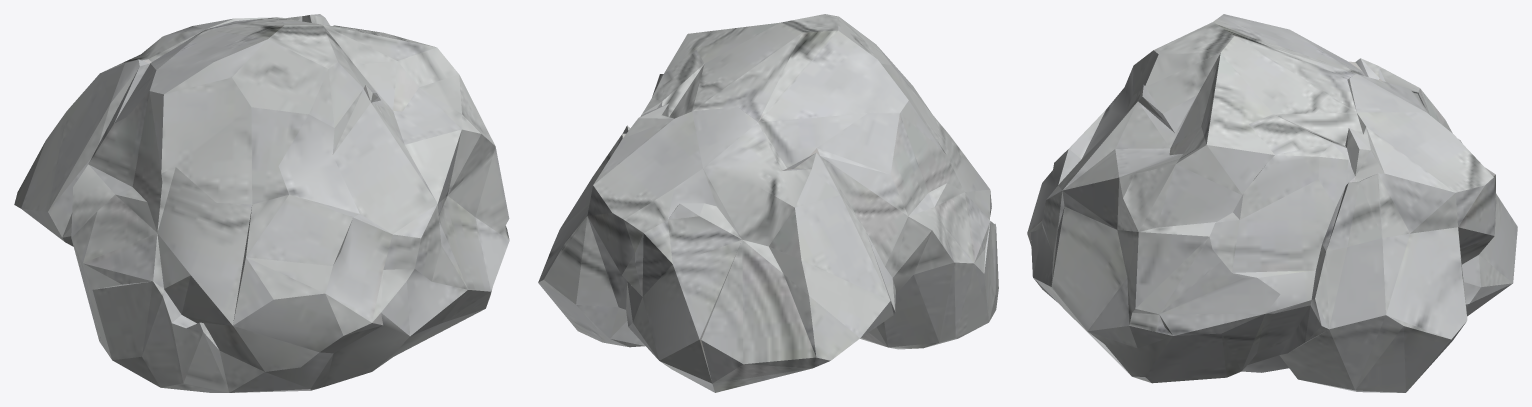
Rendered from rock_1.glb.
3 renders of one model, left to right at view 1: azimuth 30°, elevation 25°; view 2: azimuth 150°, elevation 25°; view 3: azimuth 270°, elevation 25°, orthographic. The views are drawn at different scales.
Size of the model in its own units: 1.64 by 1.22 by 1.9.
Materials: 1 (1 with a texture image).
